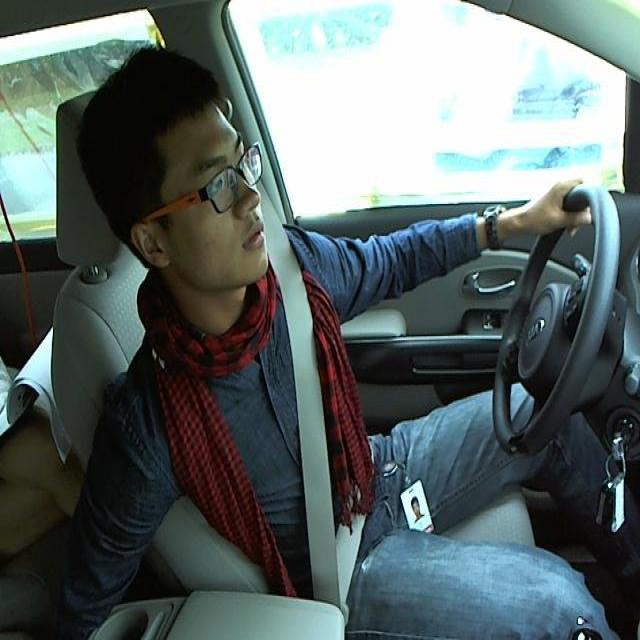seatbelt: (277, 287, 360, 588)
